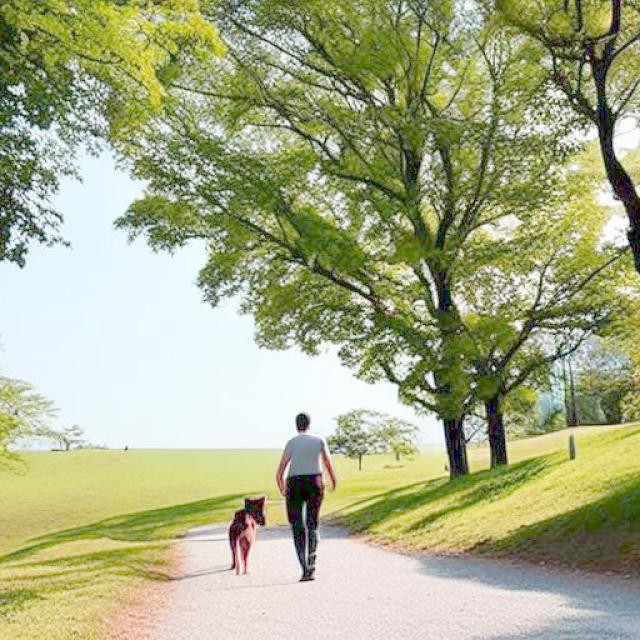Unleashed_Dog: (226, 487, 325, 577)
